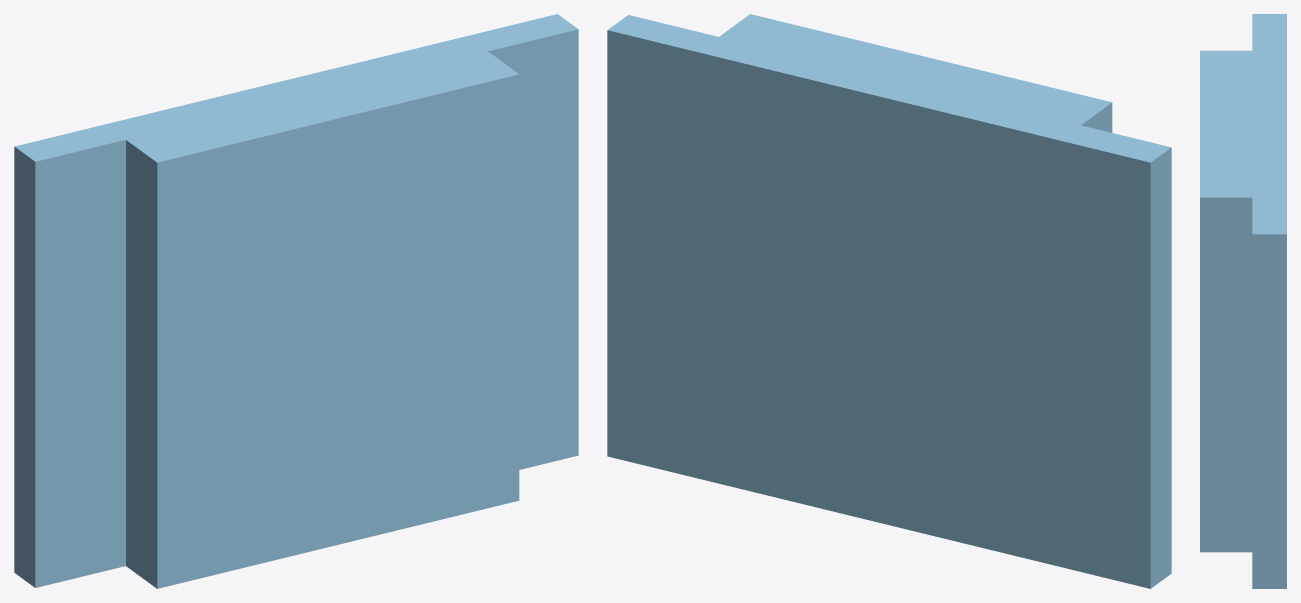
File: IMU.obj
3 renders of one model, left to right at view 1: azimuth 30°, elevation 25°; view 2: azimuth 150°, elevation 25°; view 3: azimuth 270°, elevation 25°, orthographic. The views are drawn at different scales.
Parts seen in each view (by area): view 1: mesh6389, mesh6380, mesh6384, mesh6386, mesh6388, mesh6381; view 2: mesh6382, mesh6386, mesh6381; view 3: mesh6387, mesh6386, mesh6383.
Boxes of the visible parts, left/top/right/bottom form: mesh6389: left=157, top=74, right=519, bottom=588; mesh6380: left=35, top=140, right=125, bottom=587; mesh6384: left=488, top=29, right=578, bottom=469; mesh6386: left=15, top=14, right=577, bottom=162; mesh6388: left=126, top=140, right=157, bottom=588; mesh6381: left=14, top=146, right=35, bottom=587; mesh6382: left=607, top=30, right=1150, bottom=588; mesh6386: left=607, top=14, right=1170, bottom=162; mesh6381: left=1150, top=147, right=1171, bottom=588; mesh6387: left=1200, top=197, right=1252, bottom=552; mesh6386: left=1200, top=14, right=1286, bottom=234; mesh6383: left=1252, top=234, right=1286, bottom=588.
Size of the model in its own units: 0.06 by 0.045 by 0.01.
